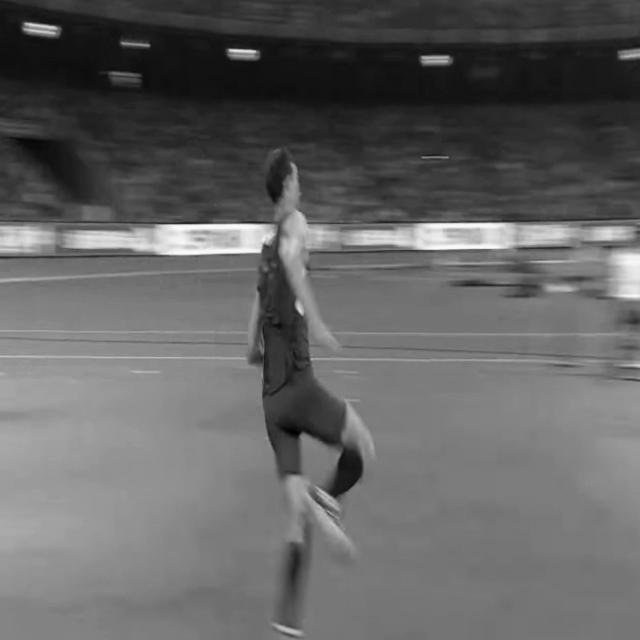run: (246, 145, 374, 640)
